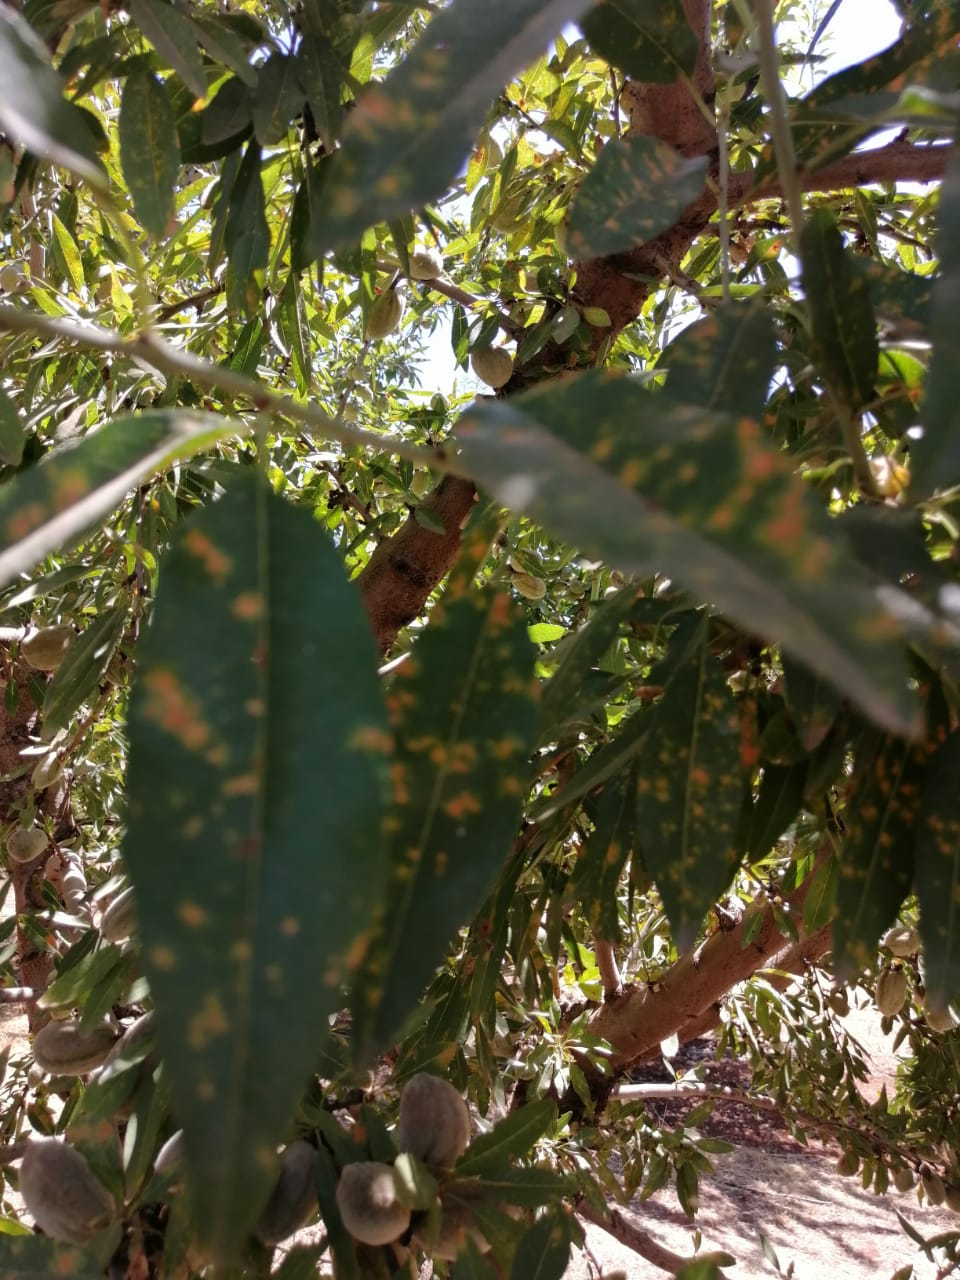polystigma: (453, 361, 930, 740), (321, 580, 551, 1069)
